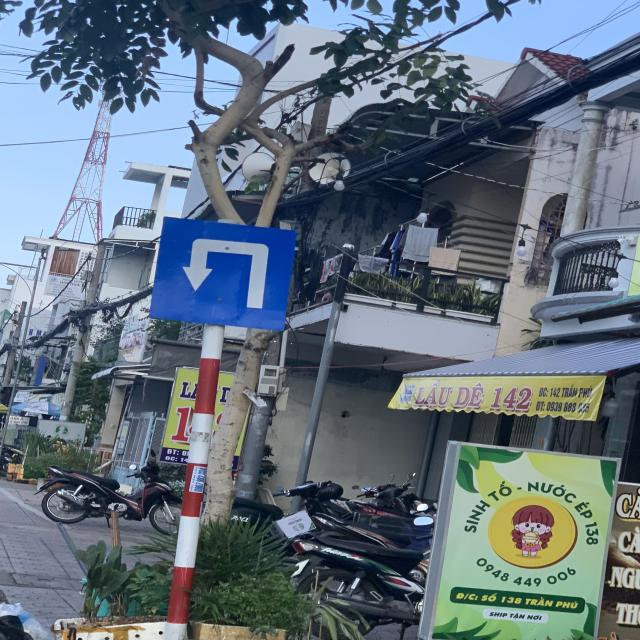Den_Giao_Thong: (151, 218, 293, 330)
